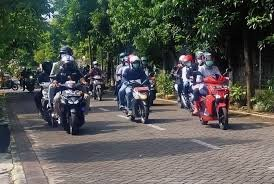motor: (194, 73, 235, 130), (55, 79, 92, 135), (127, 75, 153, 124)
